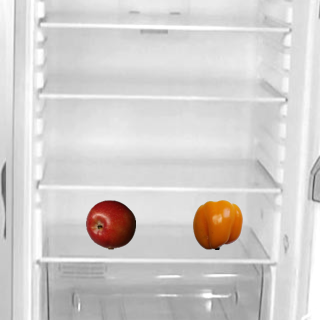Apple Braeburn: (85, 199, 135, 249)
Pepper Yellow: (192, 199, 242, 249)
